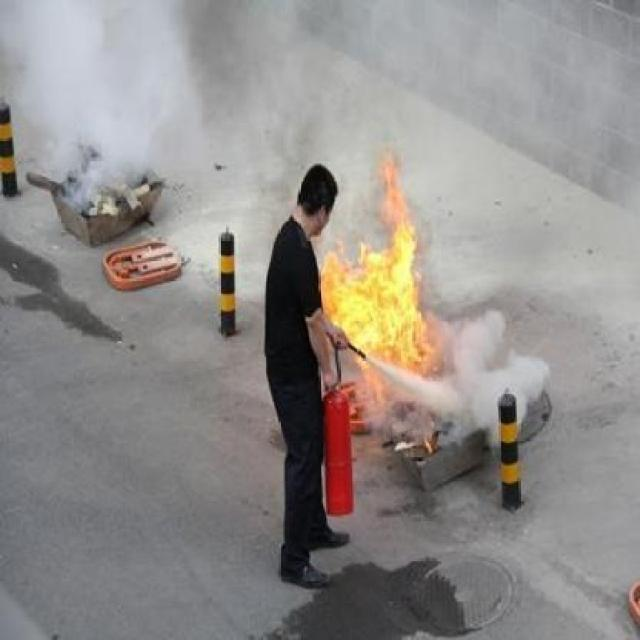Fire: (334, 154, 436, 372)
